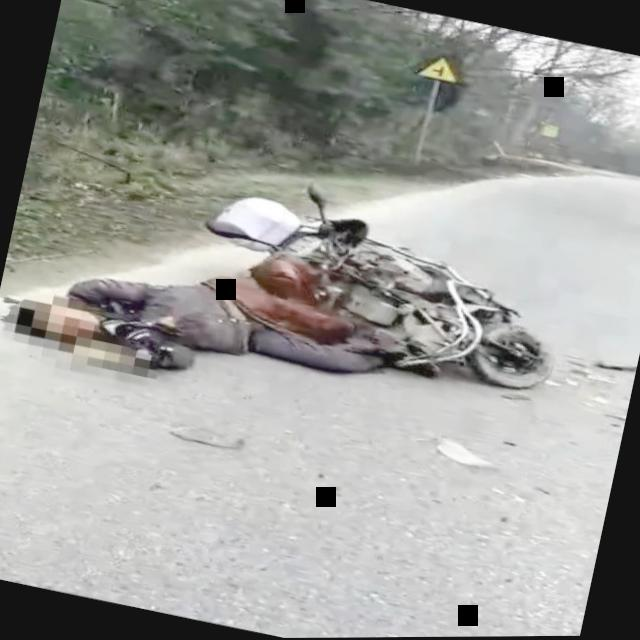Fall-Detected: (0, 217, 415, 430)
